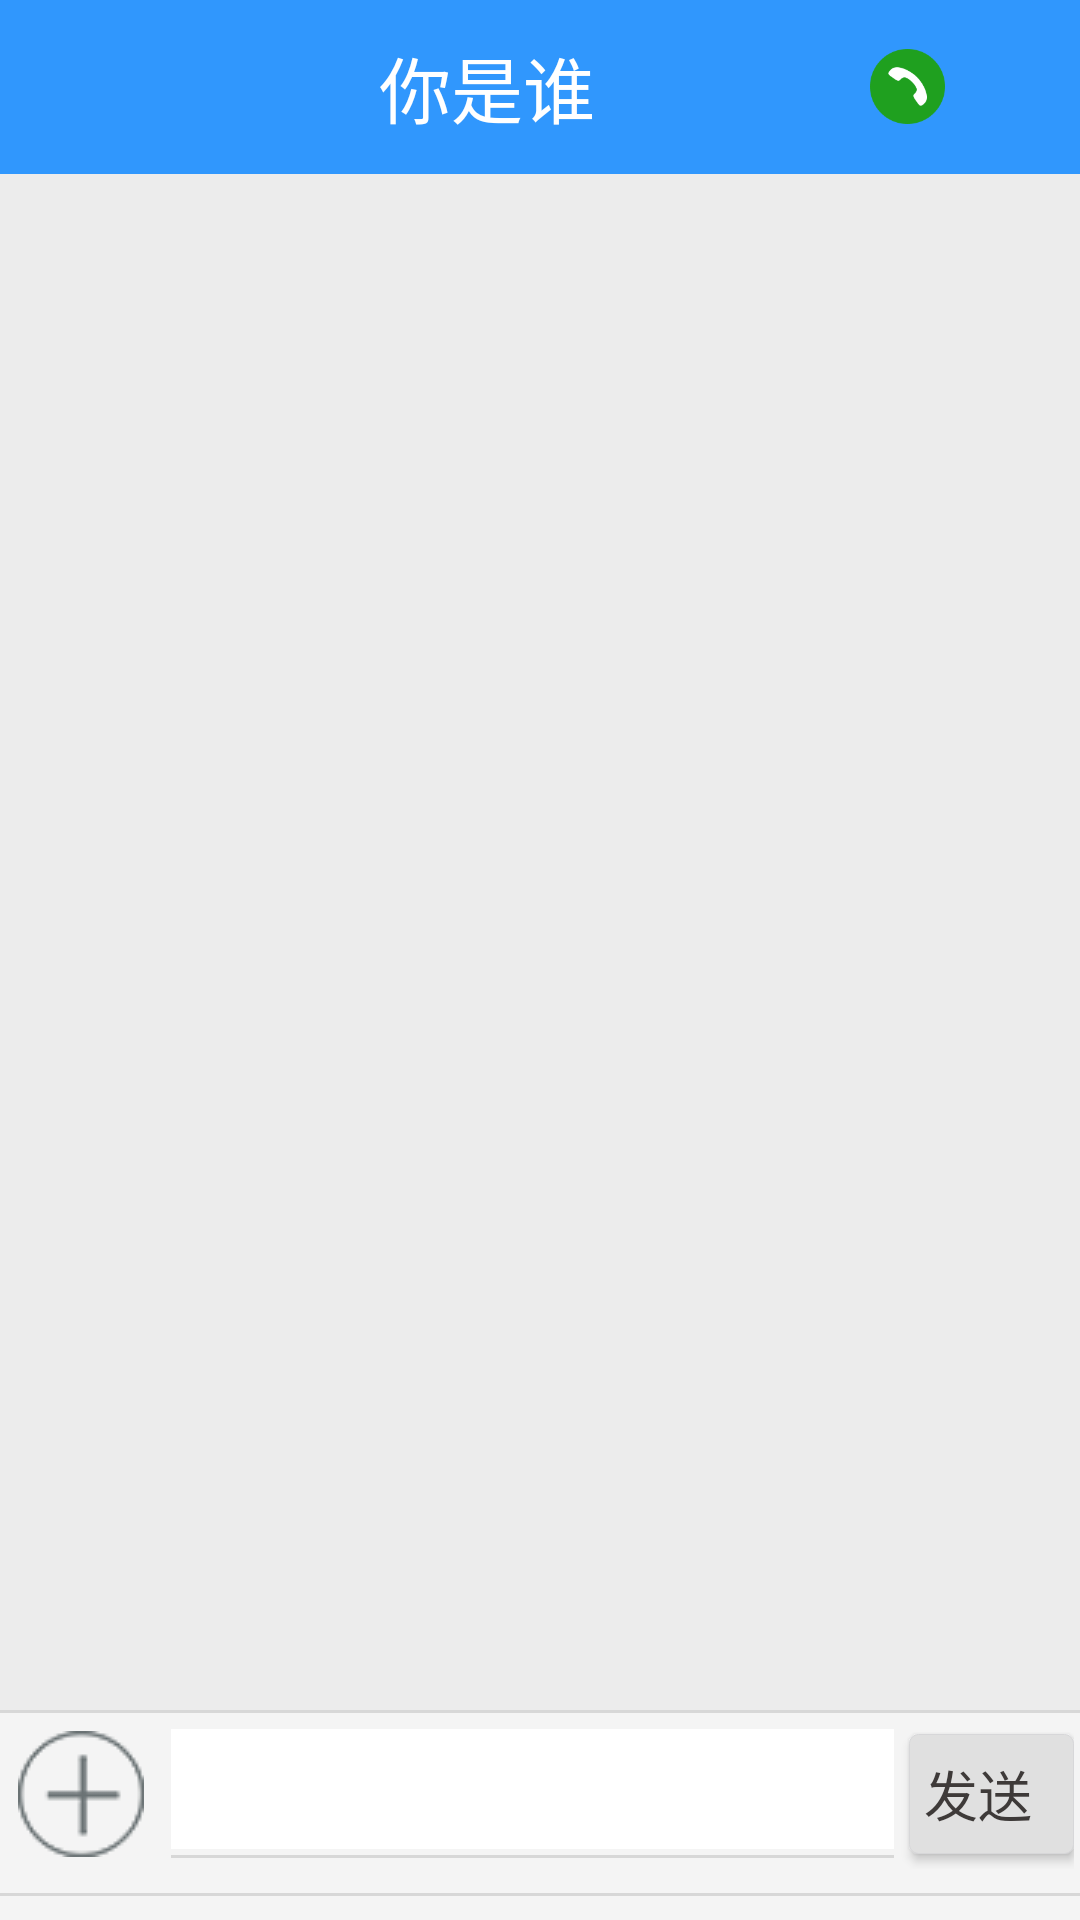

Where to tap for icons on this 1080px x 1920px app screen, as (x=x, y=y):
plus: (x=81, y=1794)
